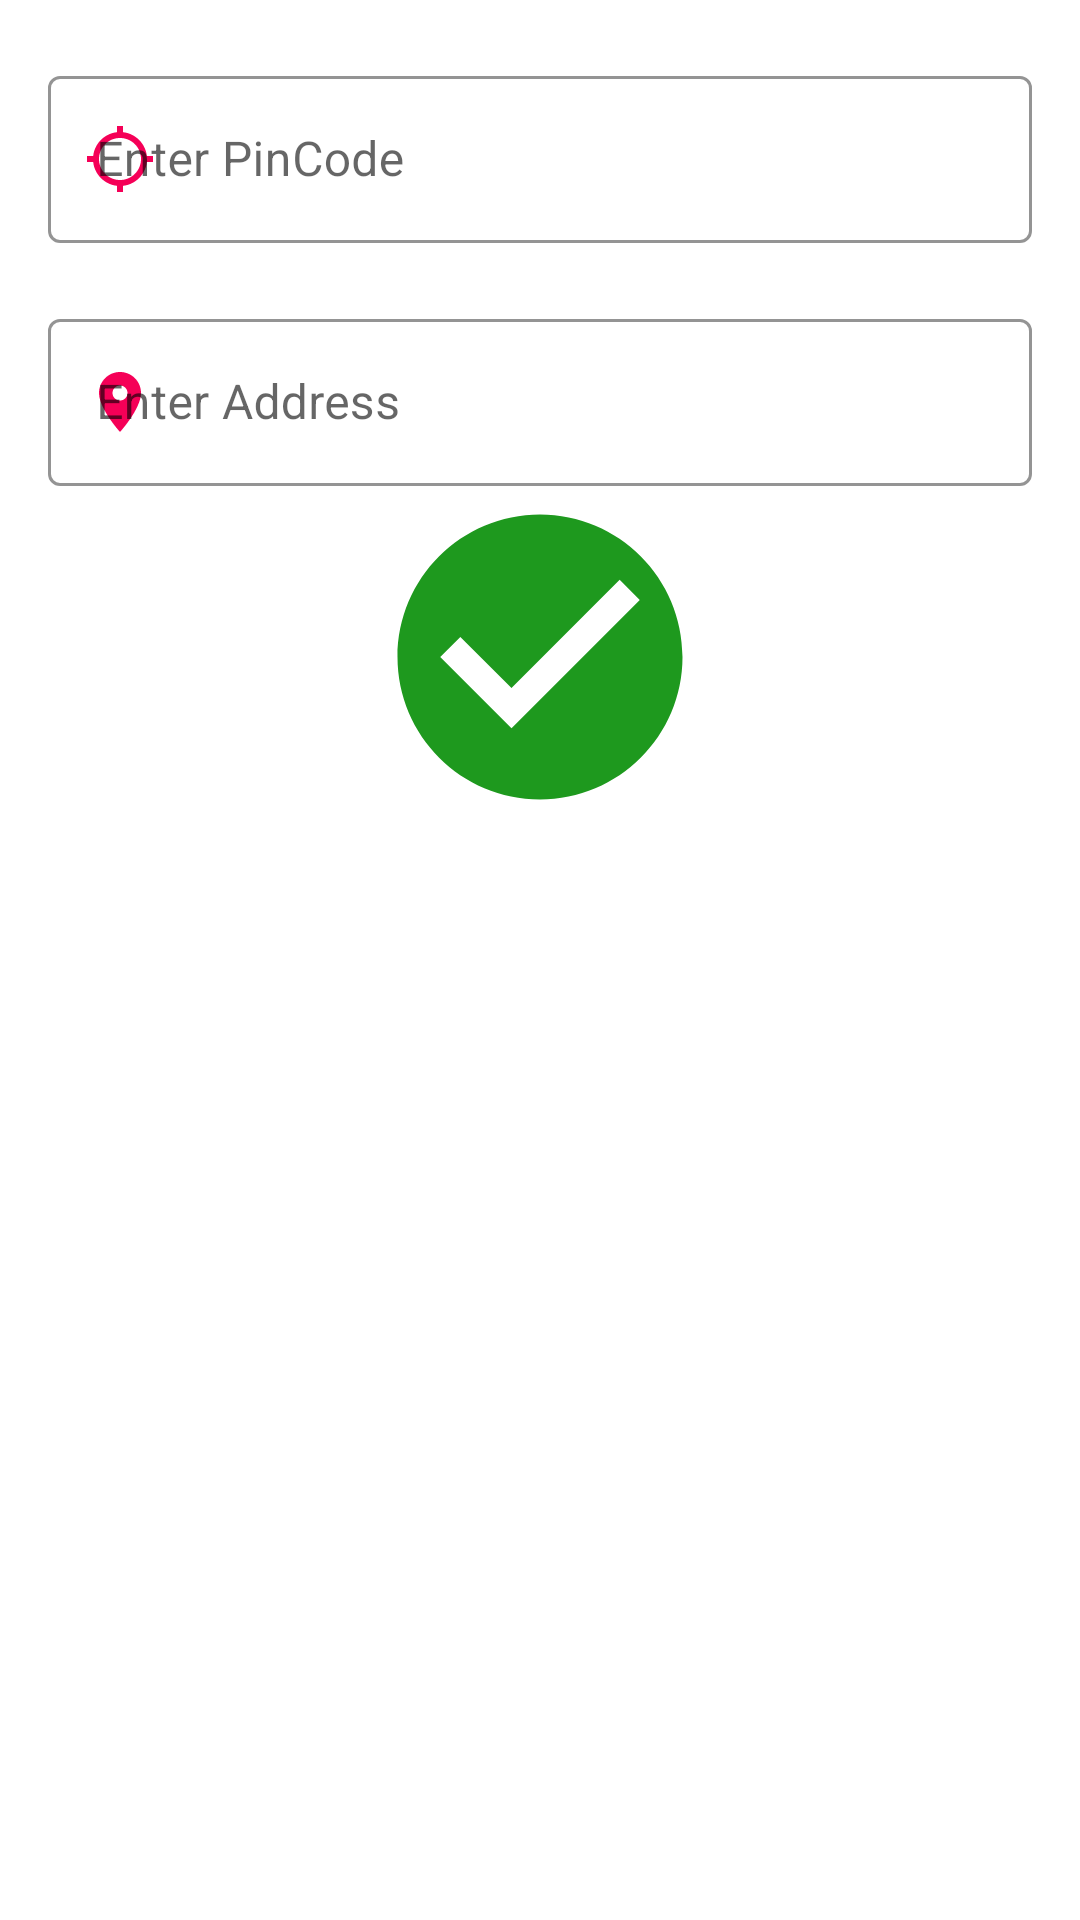

Icon click points for this 1080*1920 phone screenshot, format point (x, y):
true: point (540, 657)
